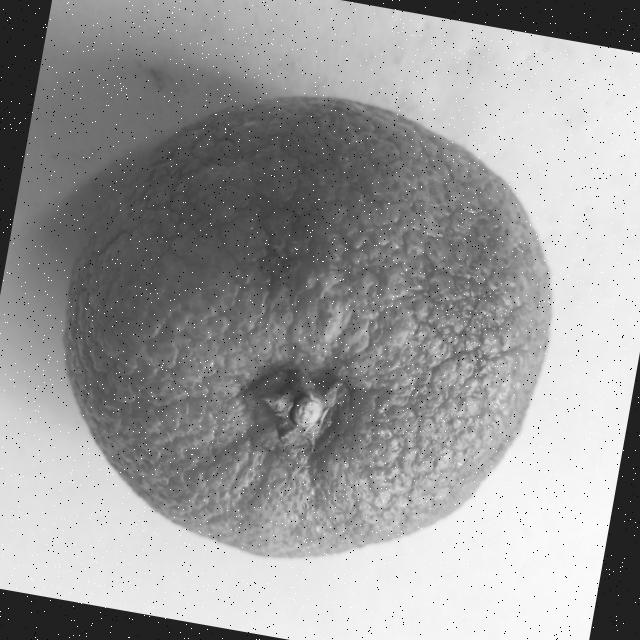overripe: (19, 50, 590, 615)
